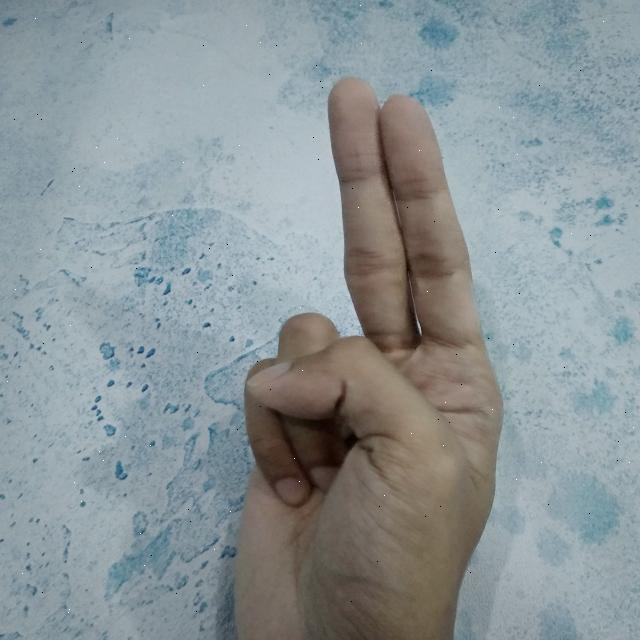U: (229, 72, 507, 640)
